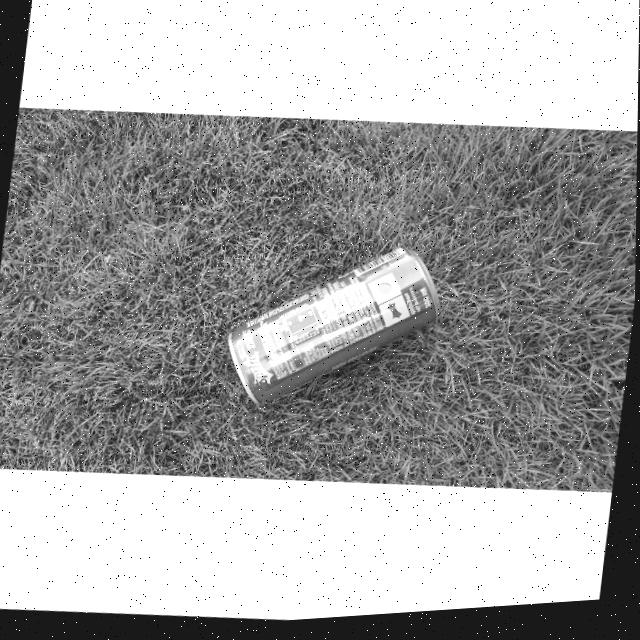Sprite: (224, 228, 433, 426)
